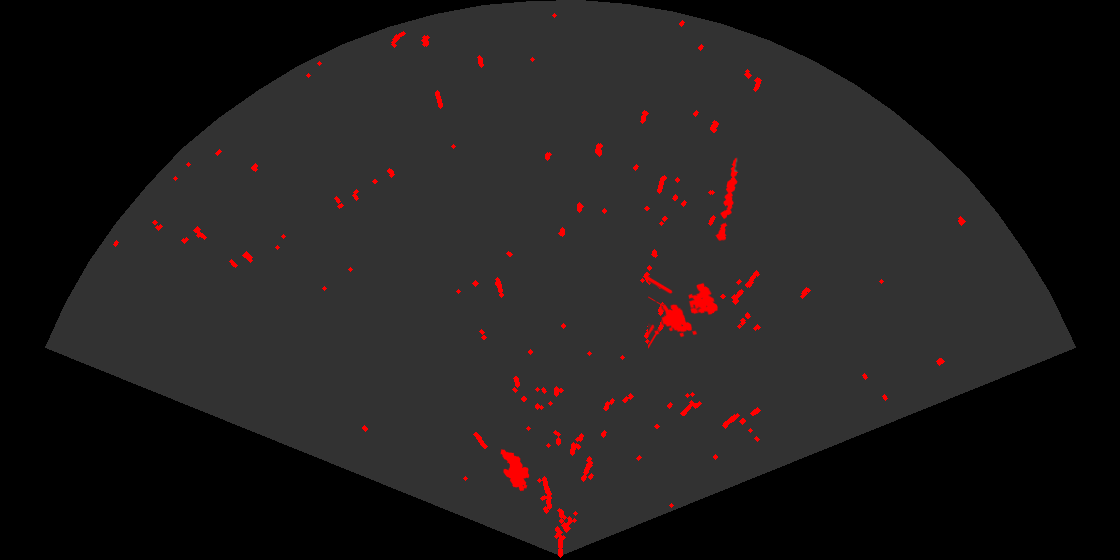AUV: (499, 448, 531, 493)
cage: (648, 275, 720, 350)
chain: (714, 156, 740, 243)
